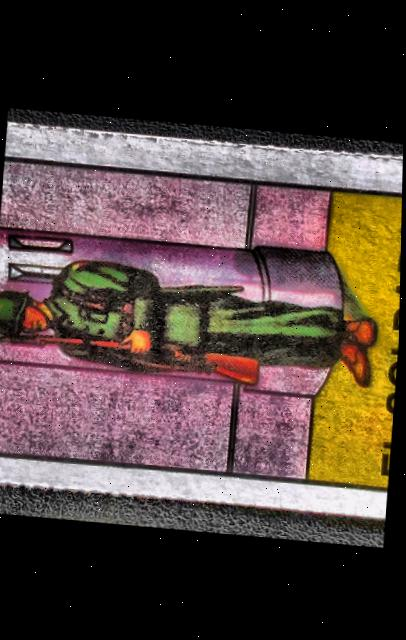El Soldado: (0, 143, 404, 496)
